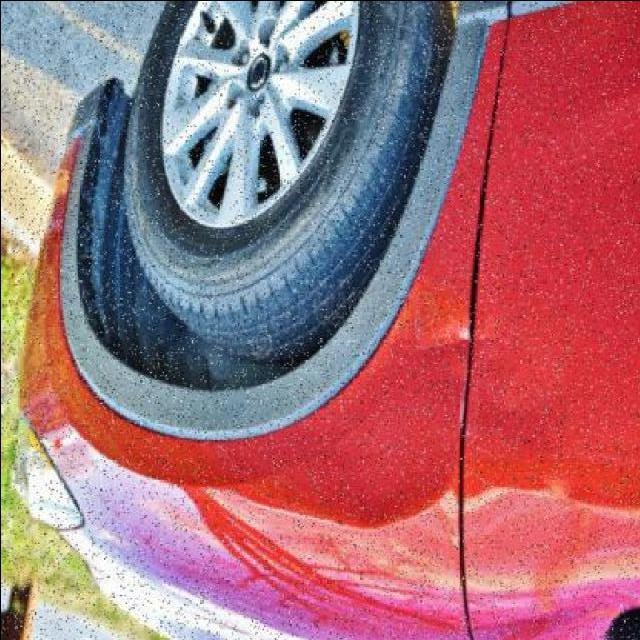fender-dent: (72, 264, 462, 551)
